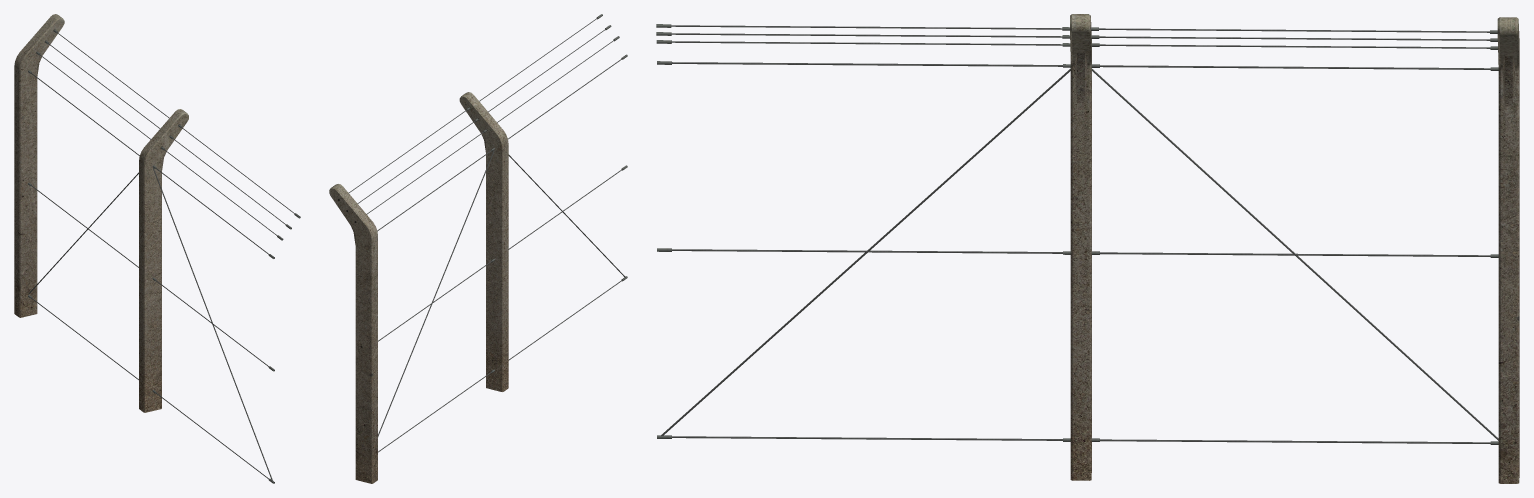
Rendered from object_18.001_lev2.001_lev3.glb.
3 renders of one model, left to right at view 1: azimuth 30°, elevation 25°; view 2: azimuth 150°, elevation 25°; view 3: azimuth 270°, elevation 25°, orthographic. The views are drawn at different scales.
Parts seen in each view (by area): view 1: object_18.001_lev2.001_lev3; view 2: object_18.001_lev2.001_lev3; view 3: object_18.001_lev2.001_lev3.
Boxes of the visible parts, x1=… form: object_18.001_lev2.001_lev3: x1=14, y1=14, x2=300, y2=483; object_18.001_lev2.001_lev3: x1=329, y1=14, x2=627, y2=483; object_18.001_lev2.001_lev3: x1=656, y1=14, x2=1519, y2=483.
Bounding box in the file's own units: 1.07 × 6.08 × 9.85.
Materials: 1 (1 with a texture image).
